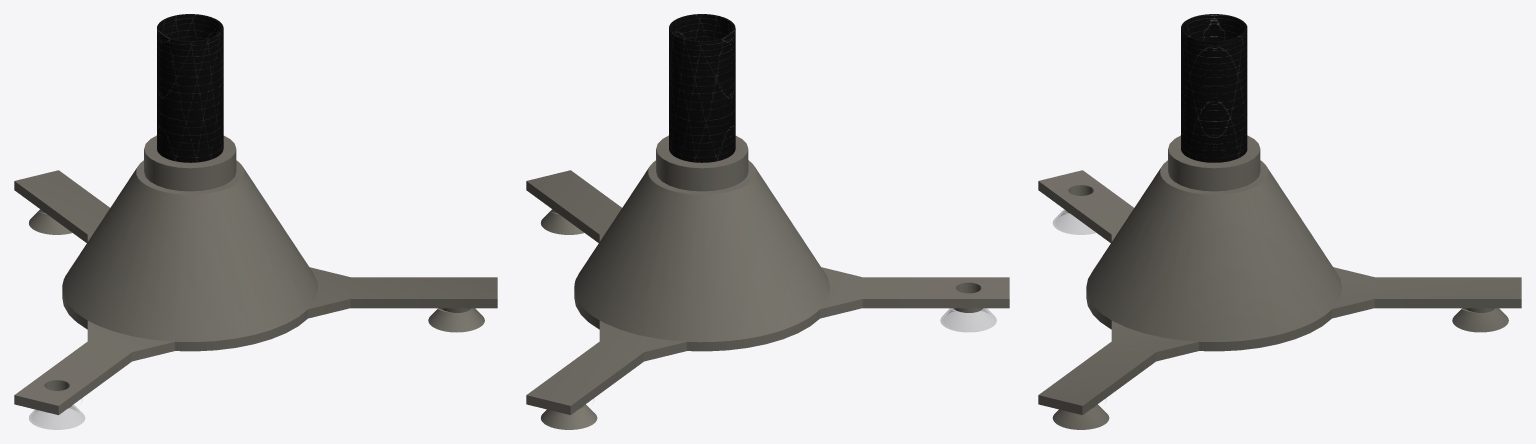
Rendered from docking_mechanism_dragon_side.dae.
3 renders of one model, left to right at view 1: azimuth 30°, elevation 25°; view 2: azimuth 150°, elevation 25°; view 3: azimuth 270°, elevation 25°, orthographic.
Parts seen in each view (by area): view 1: Shape_IndexedFaceSet; view 2: Shape_IndexedFaceSet; view 3: Shape_IndexedFaceSet.
Boxes of the visible parts, x1,y1,x2,y2 form: Shape_IndexedFaceSet: [14, 14, 497, 429]; Shape_IndexedFaceSet: [526, 14, 1009, 429]; Shape_IndexedFaceSet: [1038, 14, 1521, 429].
Size of the model in its own units: 1.09 by 0.9433 by 0.63.
7 materials, 3 textured.
